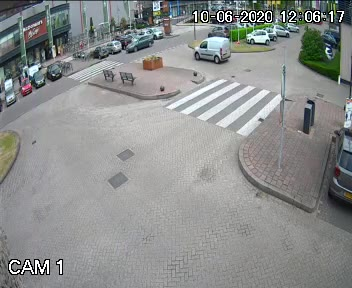car: (188, 33, 233, 65), (125, 30, 158, 54)
